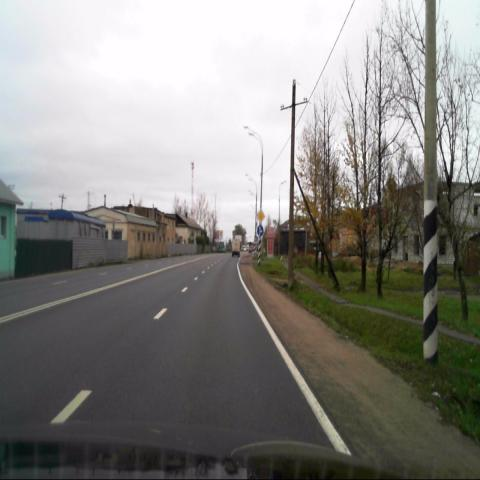2_1: (257, 209, 265, 224)
4_1_4: (257, 224, 263, 236)
